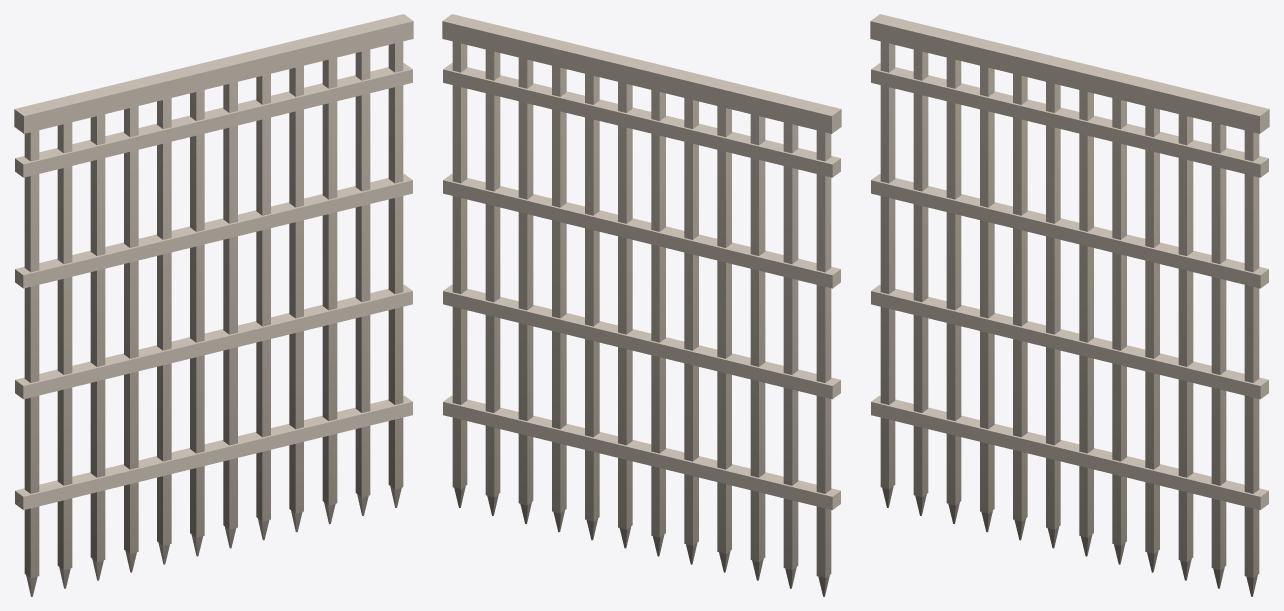
Rendered from SM_VKI_Leaf_Portcullis_300.fbx.
3 views of the same model, side by side, from view 1: azimuth 30°, elevation 25°; view 2: azimuth 150°, elevation 25°; view 3: azimuth 330°, elevation 25° (orthographic).
Parts seen in each view (by area): view 1: SM_VKI_Leaf_Portcullis_300.001; view 2: SM_VKI_Leaf_Portcullis_300.001; view 3: SM_VKI_Leaf_Portcullis_300.001.
Part boxes in pixels (bbox=[...]): SM_VKI_Leaf_Portcullis_300.001: bbox=[14, 14, 413, 596]; SM_VKI_Leaf_Portcullis_300.001: bbox=[442, 14, 841, 596]; SM_VKI_Leaf_Portcullis_300.001: bbox=[870, 14, 1269, 596].
Size of the model in its own units: 1.84 by 2.2 by 0.08.
